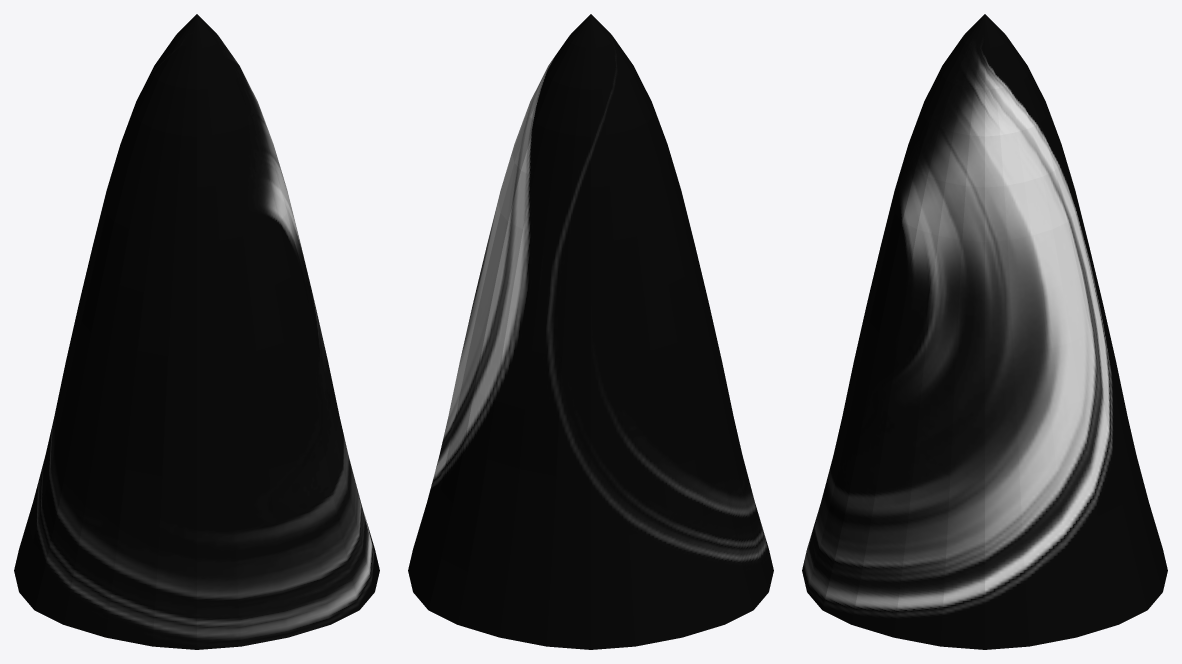
File: 0310_ht_shuiyingzhu_01.glb
3 views of the same model, side by side, from view 1: azimuth 30°, elevation 25°; view 2: azimuth 150°, elevation 25°; view 3: azimuth 270°, elevation 25° (orthographic).
Size of the model in its own units: 1.35 by 2.2 by 1.31.
Materials: 1 (1 with a texture image).
